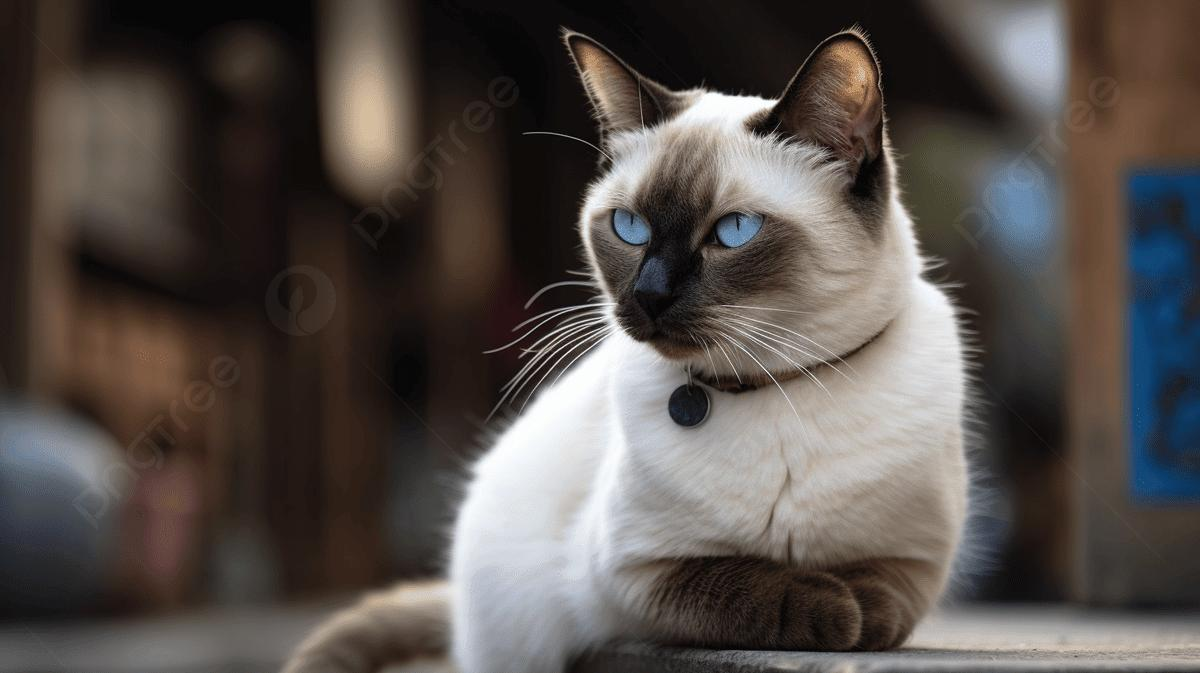cat: (290, 33, 973, 658)
